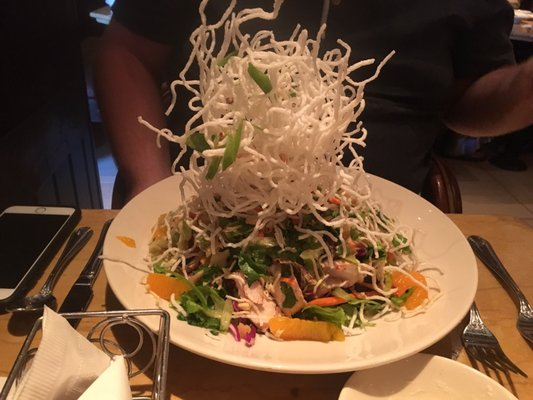sandwich: (467, 234, 533, 344), (58, 217, 115, 312), (1, 312, 46, 400)
